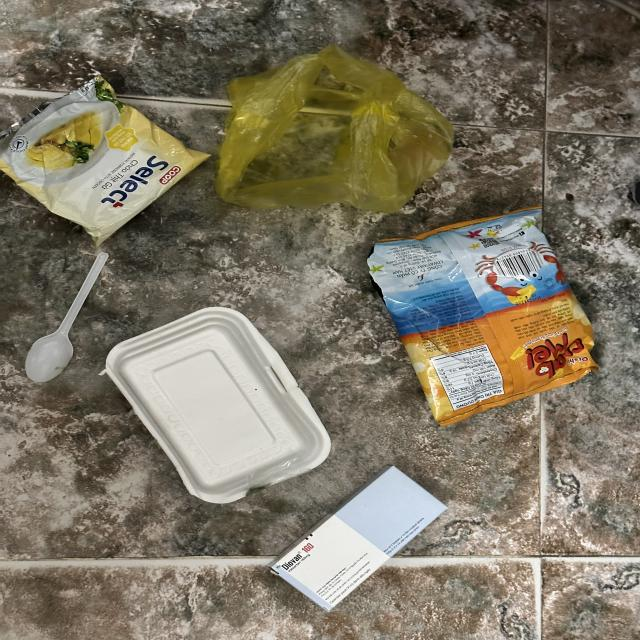bag: (215, 44, 455, 215)
cardboard box: (264, 464, 450, 614)
foam box: (105, 306, 332, 504)
plastic utensil: (24, 251, 111, 384)
snack package: (364, 204, 606, 429), (0, 73, 215, 249)
